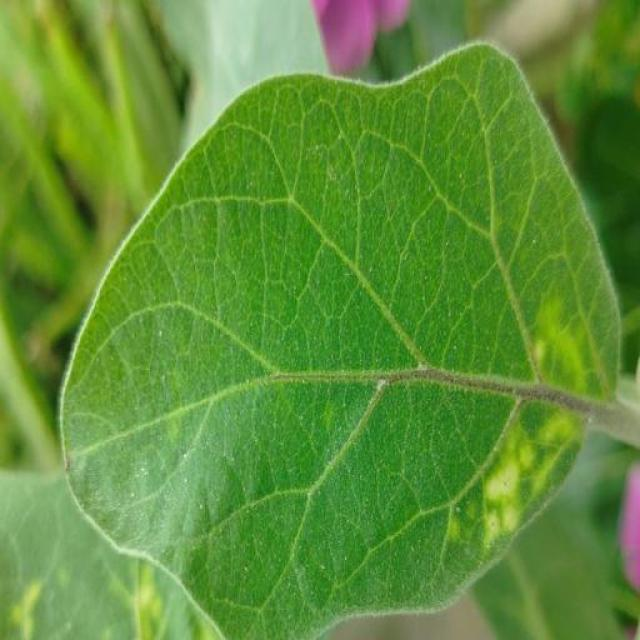leaf_spot: (466, 452, 530, 549), (532, 309, 599, 401), (113, 563, 188, 640), (495, 413, 588, 473), (6, 563, 53, 640), (288, 403, 362, 441), (439, 504, 484, 559)
